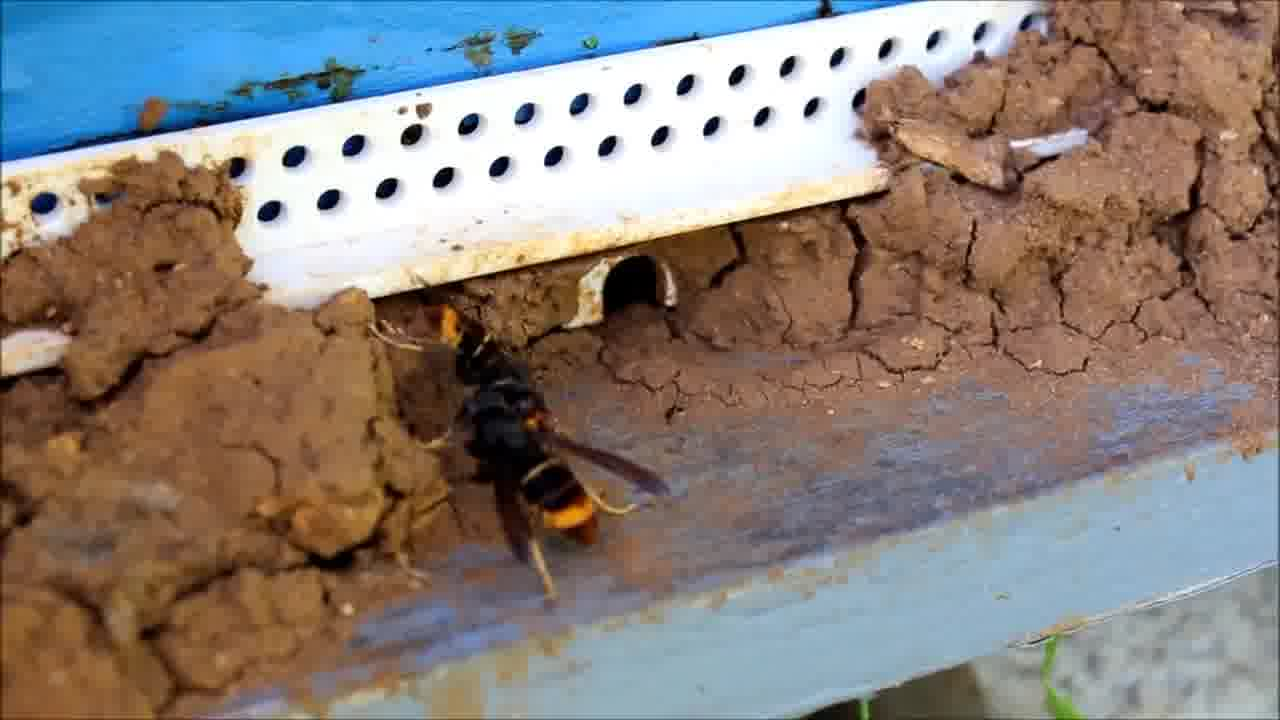hornet: (444, 368, 669, 597), (404, 273, 556, 420)
